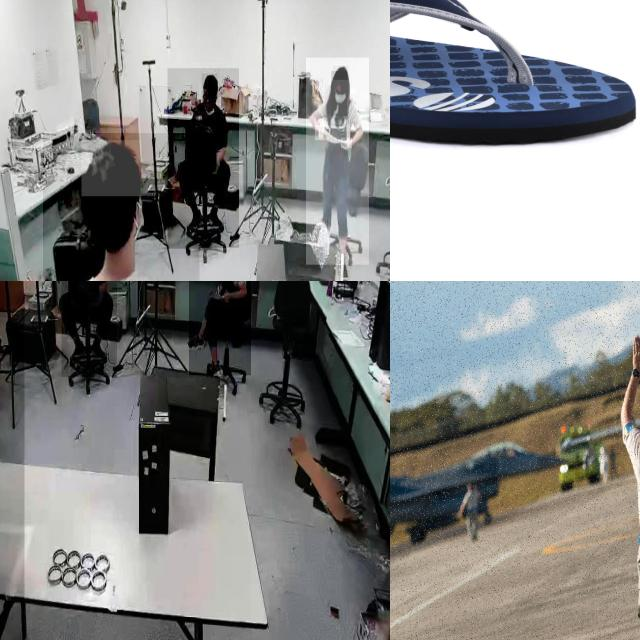Sandals: (390, 0, 640, 148)
face_mask: (331, 71, 347, 116)
face_nomask: (202, 90, 216, 112)
hand_noglove: (219, 290, 232, 303), (315, 125, 325, 141), (341, 138, 353, 149)
head_nohelmet: (82, 140, 142, 197), (202, 74, 218, 90), (333, 66, 349, 80)
person: (43, 133, 200, 281), (306, 57, 370, 266), (168, 68, 240, 249), (607, 316, 640, 640), (188, 281, 251, 376), (61, 281, 117, 378)
shoes: (201, 358, 225, 383), (185, 209, 204, 238), (207, 204, 225, 234), (69, 336, 87, 366), (89, 338, 108, 364), (186, 333, 208, 352)
